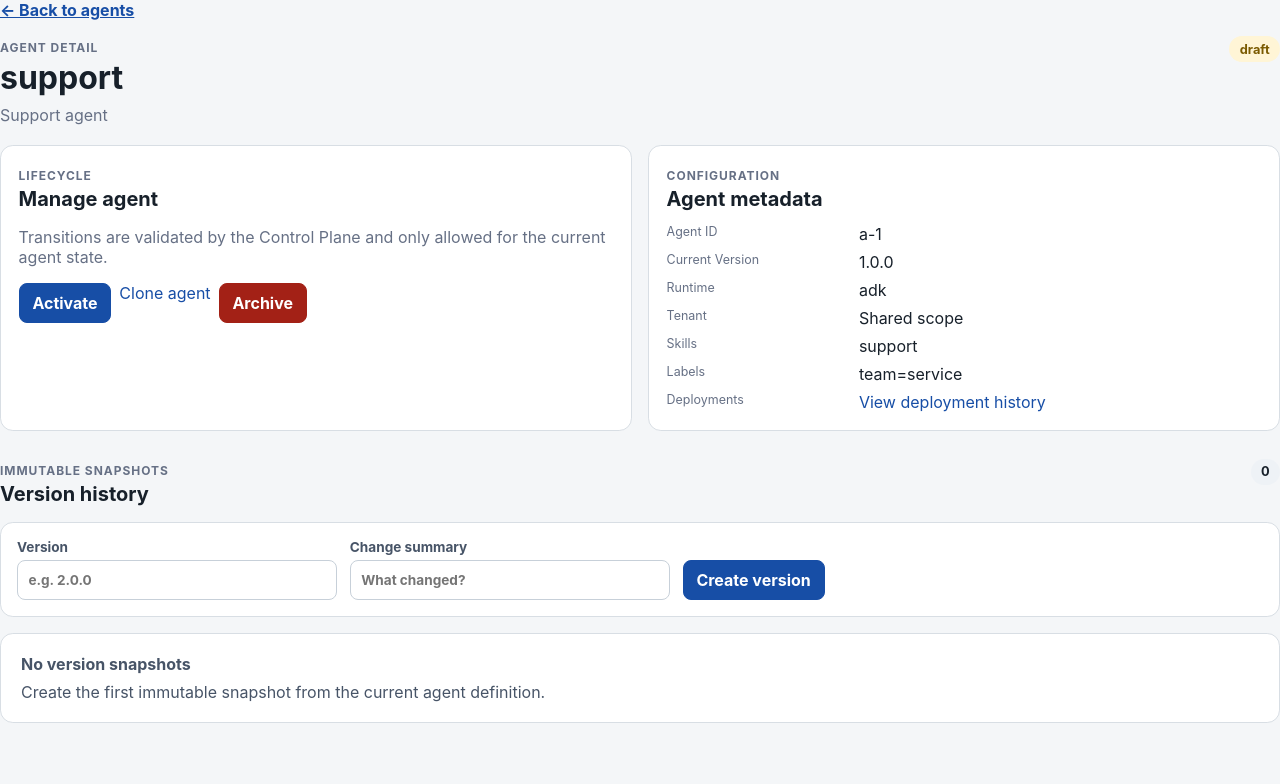
Test: AgentDetailPage › creates a version and applies a lifecycle transition
This screenshot has width=1280, height=784.
Expected: the heading "support" is shown, [0,58,123,97]
Type "2.0.0" into the field labelled "Version" at (177, 580), box [17,560,337,600]
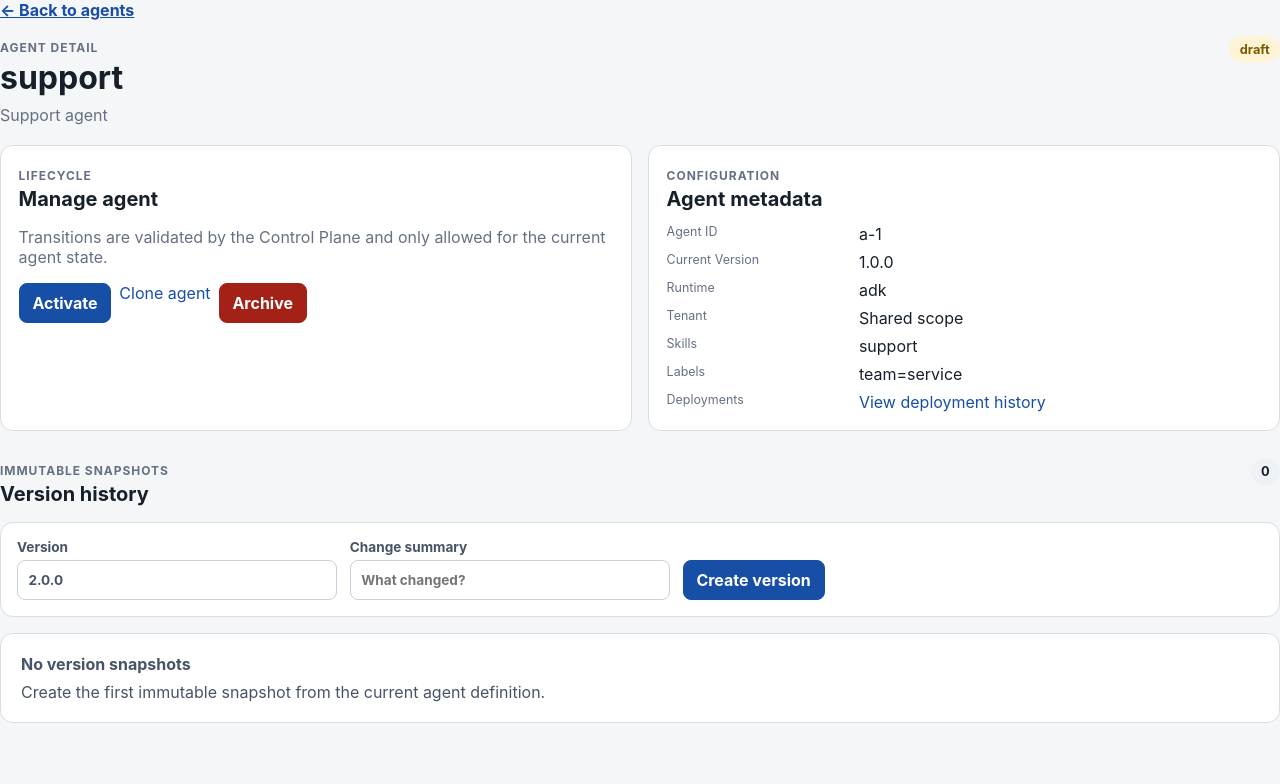
Type "Added escalation" into the field labelled "Change summary" at (510, 580), box [350,560,670,600]
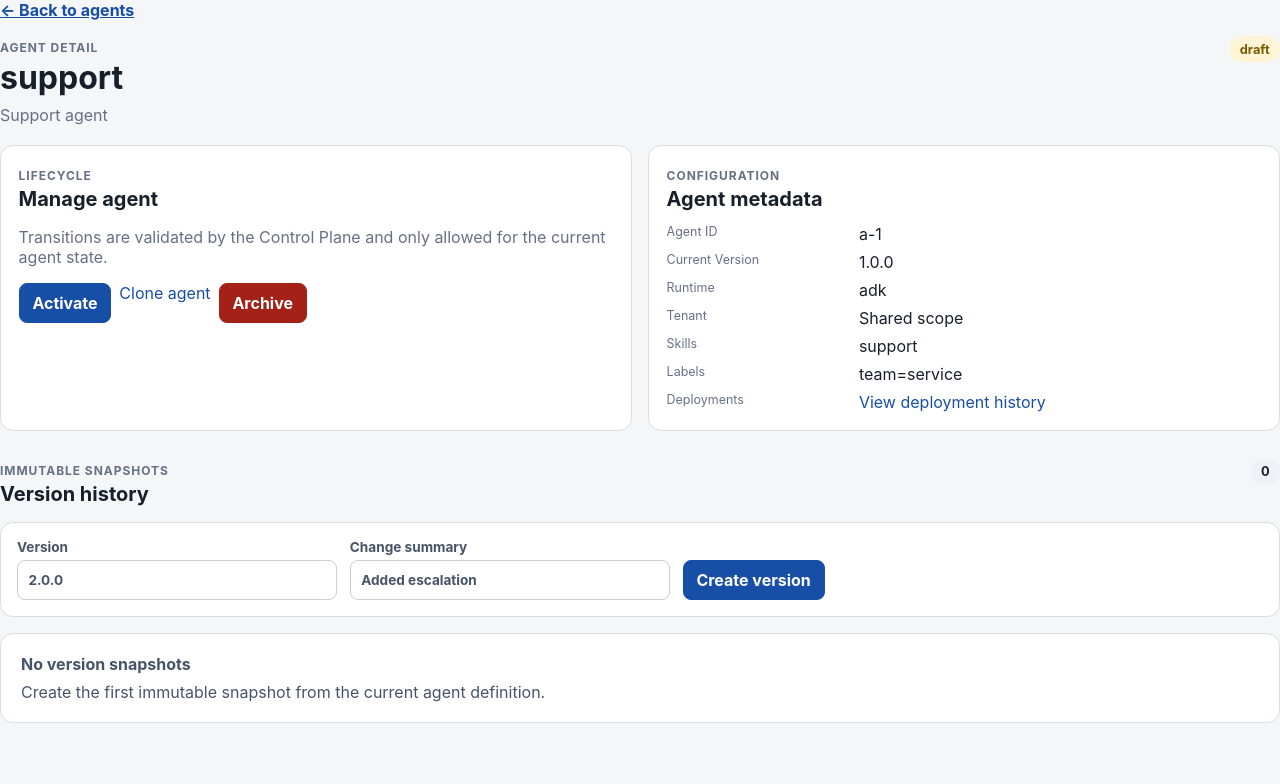
Click the button "Create version" at (754, 580), box [683,560,825,600]
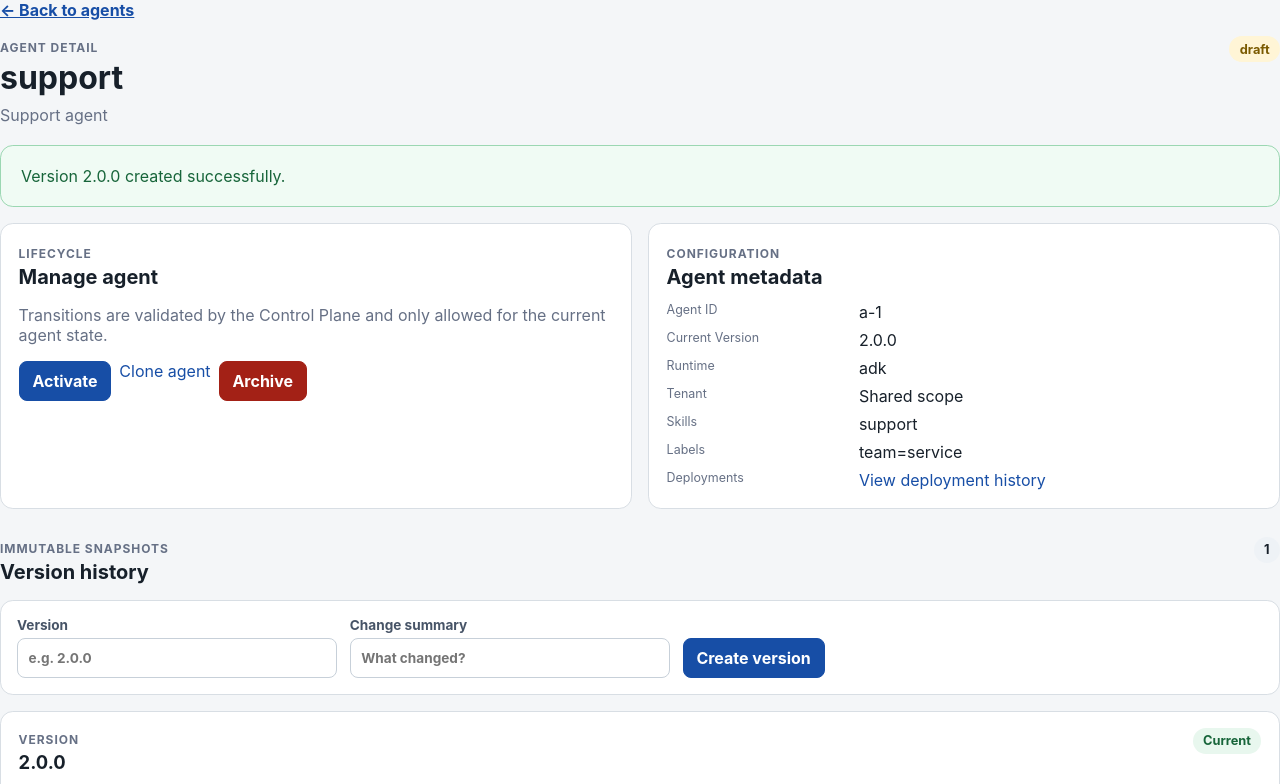
Expected: the text "Version 2.0.0 created successfully." is shown, [0,145,1279,207]
Click the button "Activate" at (65, 381), box [19,361,111,401]
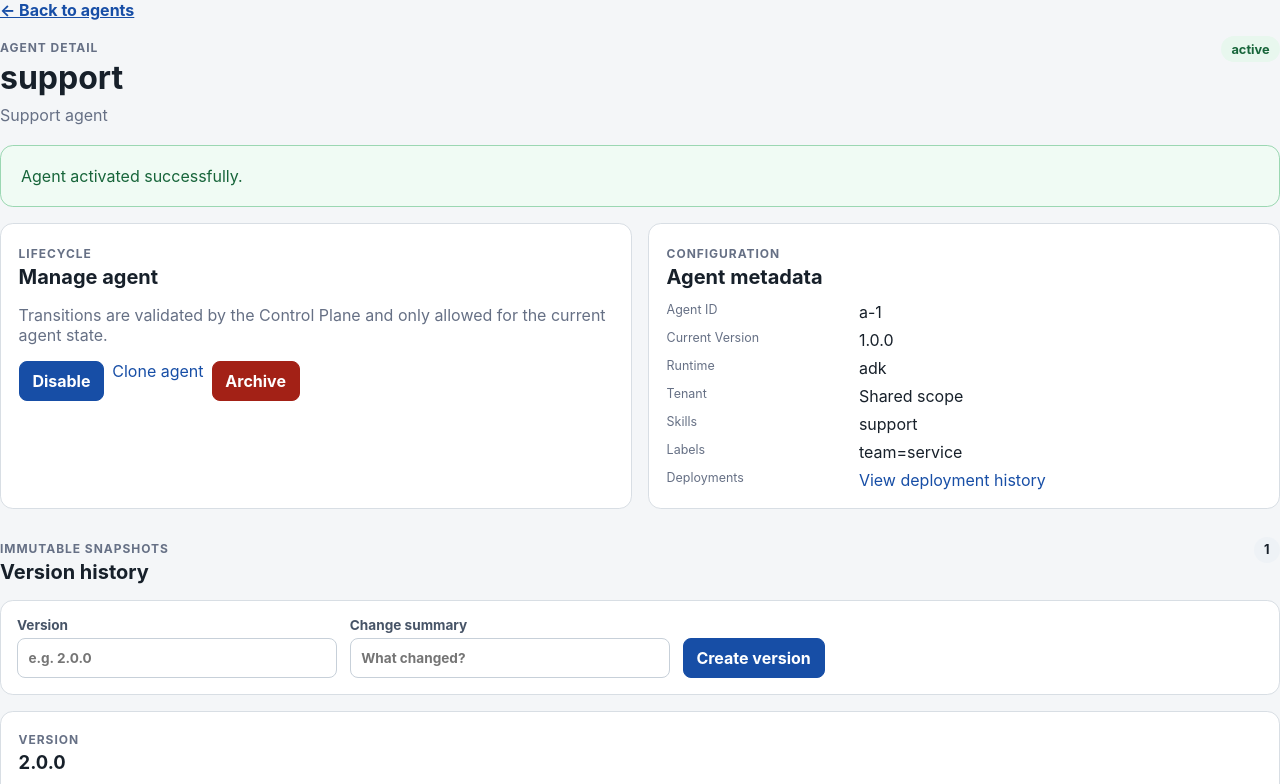
Expected: the text "Agent activated successfully." is shown, [0,145,1279,207]
Expected: the button "Disable" is shown, [19,361,104,401]
